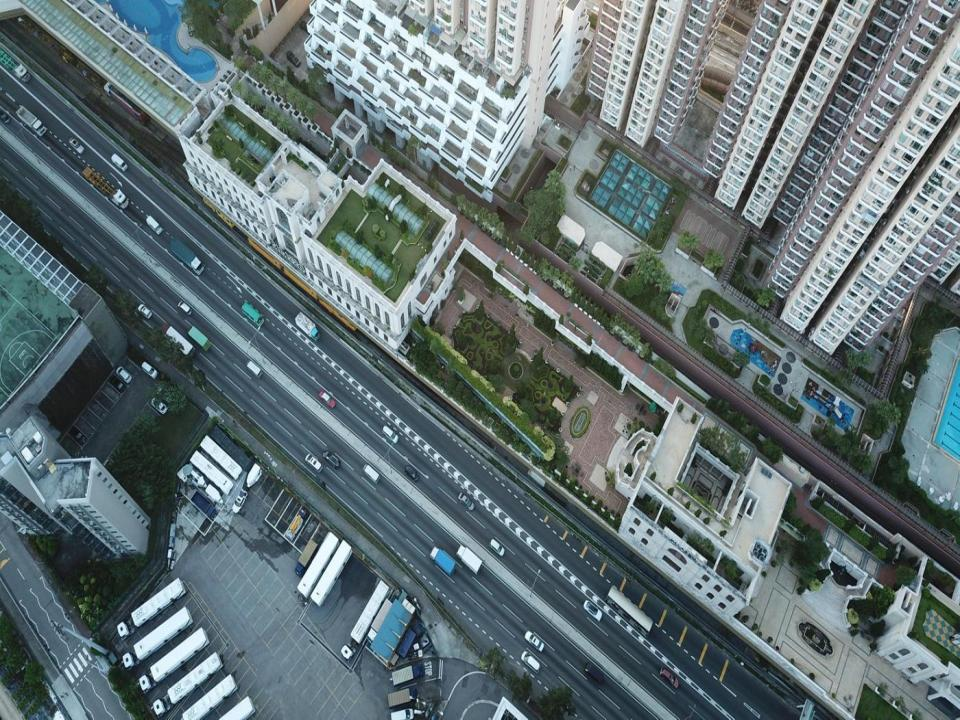bus: (310, 539, 353, 608), (297, 532, 339, 598), (606, 586, 654, 637), (104, 82, 148, 122), (241, 303, 264, 327)
car: (583, 600, 603, 622), (524, 632, 544, 652), (232, 488, 247, 514), (660, 668, 678, 689), (322, 450, 341, 469), (319, 390, 337, 409), (157, 386, 175, 405), (458, 492, 475, 511), (110, 375, 126, 394), (116, 366, 132, 385), (489, 538, 505, 557), (152, 397, 168, 415), (70, 427, 86, 444), (404, 465, 420, 482), (299, 21, 315, 37), (69, 138, 85, 153), (137, 304, 151, 319), (178, 301, 192, 315), (0, 112, 11, 124)
truck: (138, 627, 209, 693), (152, 652, 223, 717), (122, 606, 193, 670), (116, 578, 186, 640), (180, 674, 238, 718), (82, 166, 130, 210), (171, 238, 205, 275), (160, 323, 195, 358), (0, 47, 31, 82), (215, 695, 255, 719), (16, 105, 46, 136), (429, 546, 457, 576), (456, 544, 482, 574), (295, 312, 319, 344), (191, 492, 216, 519)
van: (340, 580, 390, 664), (367, 598, 395, 645), (295, 539, 318, 578), (285, 505, 308, 540), (392, 662, 425, 686), (387, 686, 417, 708), (187, 327, 211, 352), (520, 650, 542, 674), (362, 464, 380, 485), (585, 664, 603, 684), (111, 153, 128, 171), (146, 216, 163, 234), (305, 454, 322, 472), (246, 361, 263, 378), (141, 361, 158, 378), (381, 426, 399, 442), (286, 51, 301, 67), (390, 709, 412, 719)
